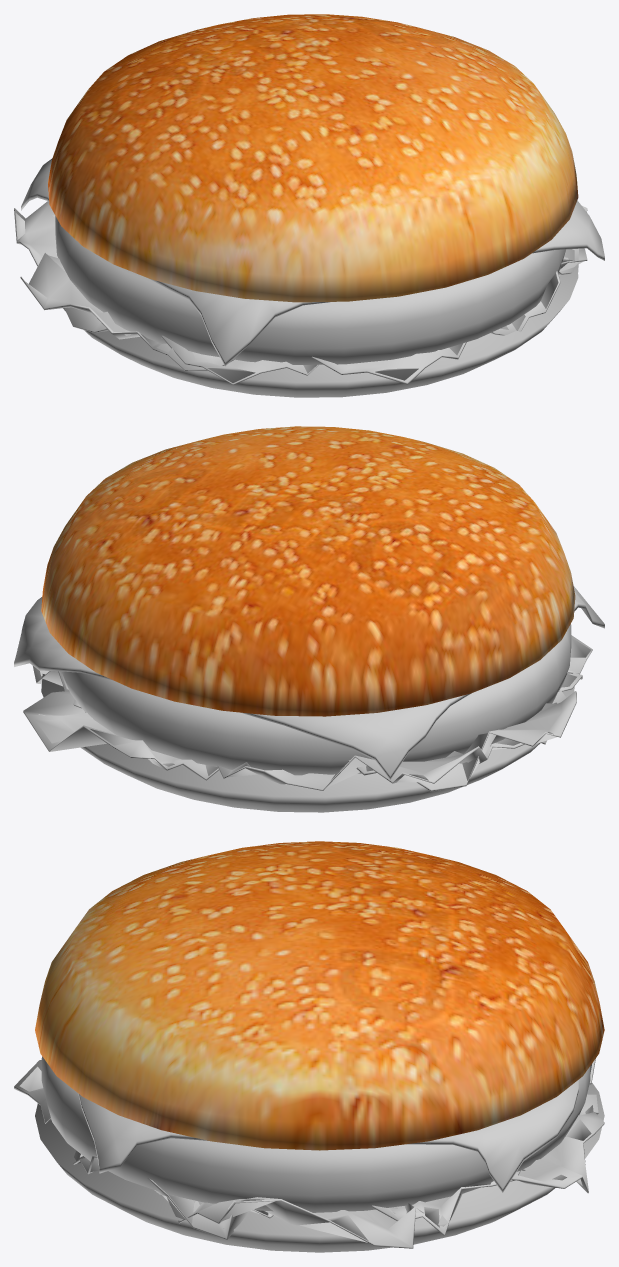
File: burger.fbx
3 views of the same model, one above another, from view 1: azimuth 30°, elevation 25°; view 2: azimuth 150°, elevation 25°; view 3: azimuth 270°, elevation 25° (orthographic). The views are drawn at different scales.
Parts seen in each view (by area): view 1: Bun (top), Burger, lettuce, Bun (bottom), Cheese; view 2: Bun (top), Burger, lettuce, Bun (bottom), Cheese; view 3: Bun (top), Burger, lettuce, Bun (bottom), Cheese.
Part boxes in pixels (left/top/right/bottom): Bun (top): left=48, top=14, right=578, bottom=302; Burger: left=55, top=216, right=565, bottom=364; lettuce: left=14, top=201, right=587, bottom=384; Bun (bottom): left=63, top=268, right=578, bottom=397; Cheese: left=21, top=158, right=604, bottom=366; Bun (top): left=41, top=426, right=575, bottom=716; Burger: left=62, top=624, right=571, bottom=775; lettuce: left=16, top=634, right=592, bottom=791; Bun (bottom): left=41, top=674, right=574, bottom=812; Cheese: left=14, top=586, right=604, bottom=779; Bun (top): left=35, top=841, right=604, bottom=1150; Burger: left=41, top=1056, right=590, bottom=1212; lettuce: left=14, top=1058, right=604, bottom=1248; Bun (bottom): left=35, top=1082, right=604, bottom=1252; Cheese: left=78, top=1080, right=578, bottom=1192.
Size of the model in its own units: 1.12 by 0.5237 by 1.04.
